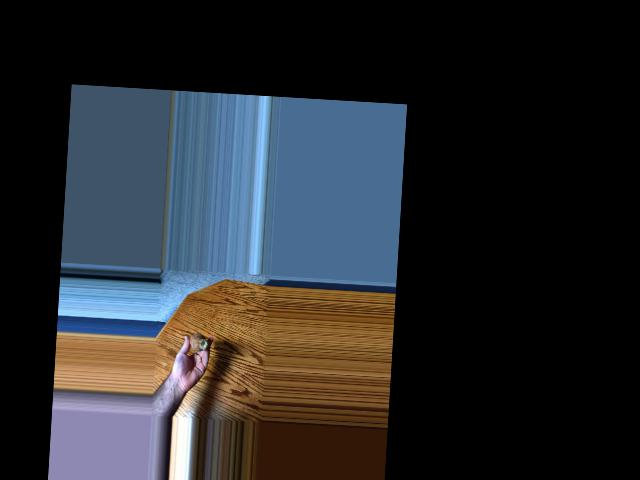sweet_potato: (188, 331, 207, 351)
